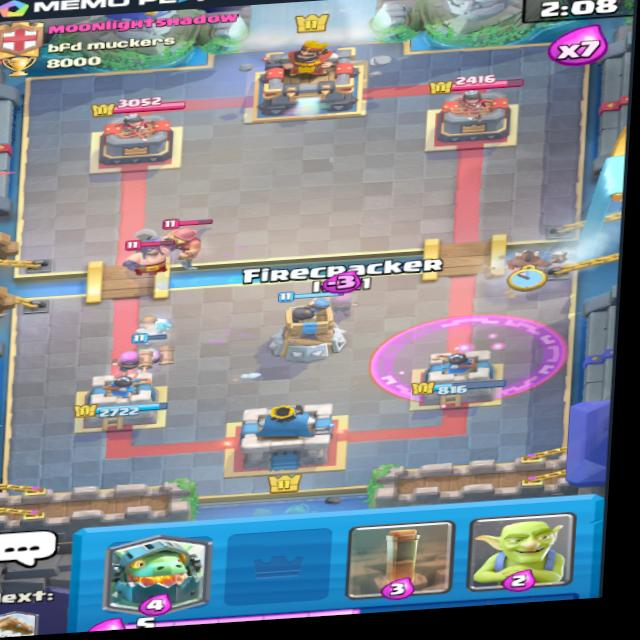executioner: (122, 220, 190, 279)
fisherman: (148, 210, 237, 260)
rage: (367, 310, 567, 405)
